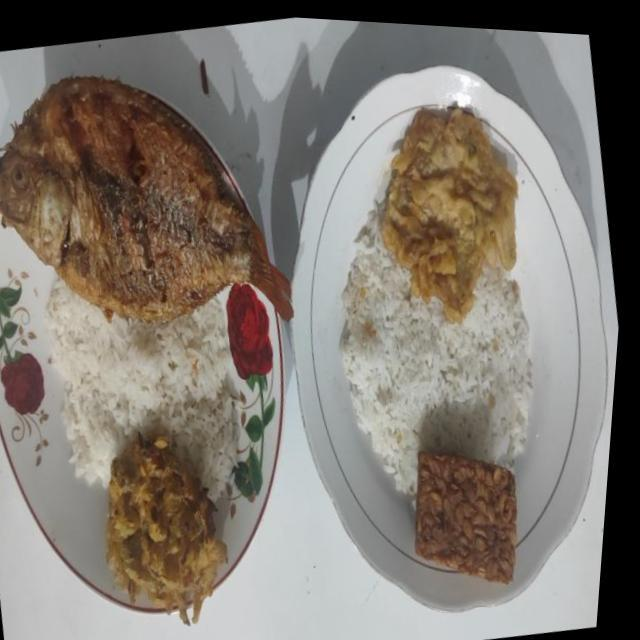ikan_mujair: (0, 76, 293, 321)
nasi_putih: (339, 186, 532, 494), (45, 280, 236, 498)
tempe_goreng: (414, 451, 516, 583)
